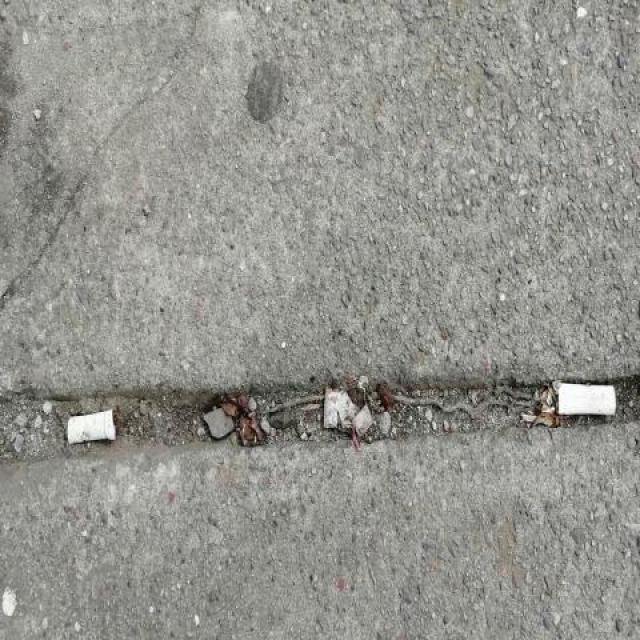non-organic waste: (553, 373, 622, 427), (61, 404, 120, 448)
